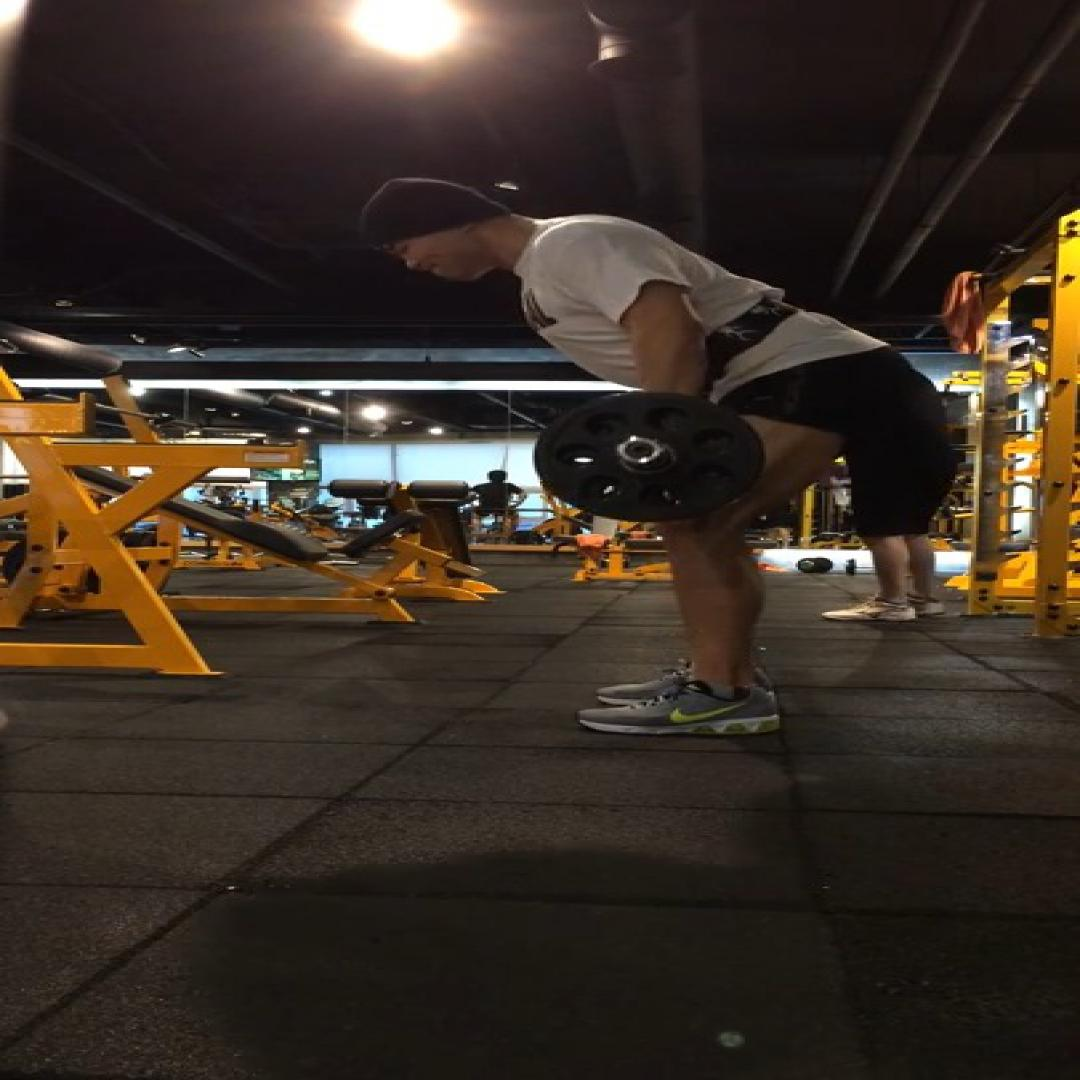Bar: (617, 436, 662, 464)
Barbell: (532, 392, 763, 522)
